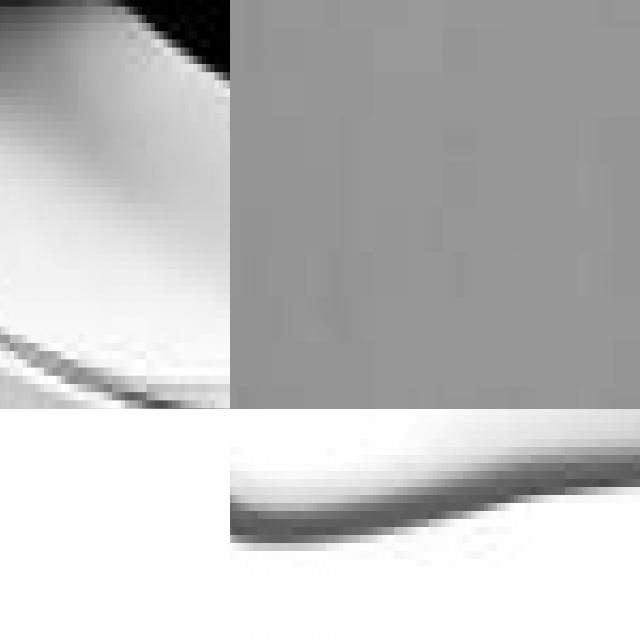forks: (0, 0, 230, 409)
